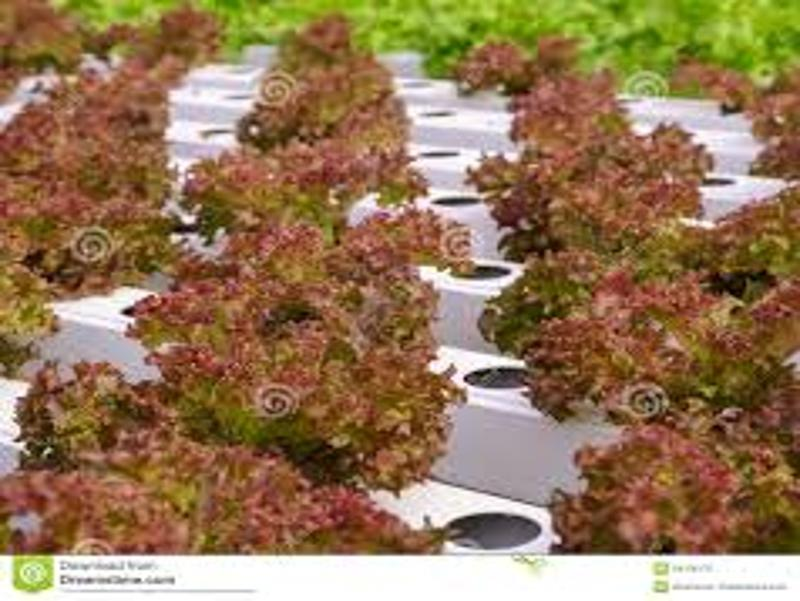red lettuce: (23, 365, 443, 554), (156, 315, 465, 479), (560, 418, 800, 552), (540, 274, 751, 415), (488, 130, 706, 239), (3, 172, 177, 293), (192, 231, 440, 315), (185, 132, 409, 224), (5, 114, 171, 198), (252, 83, 411, 133)
